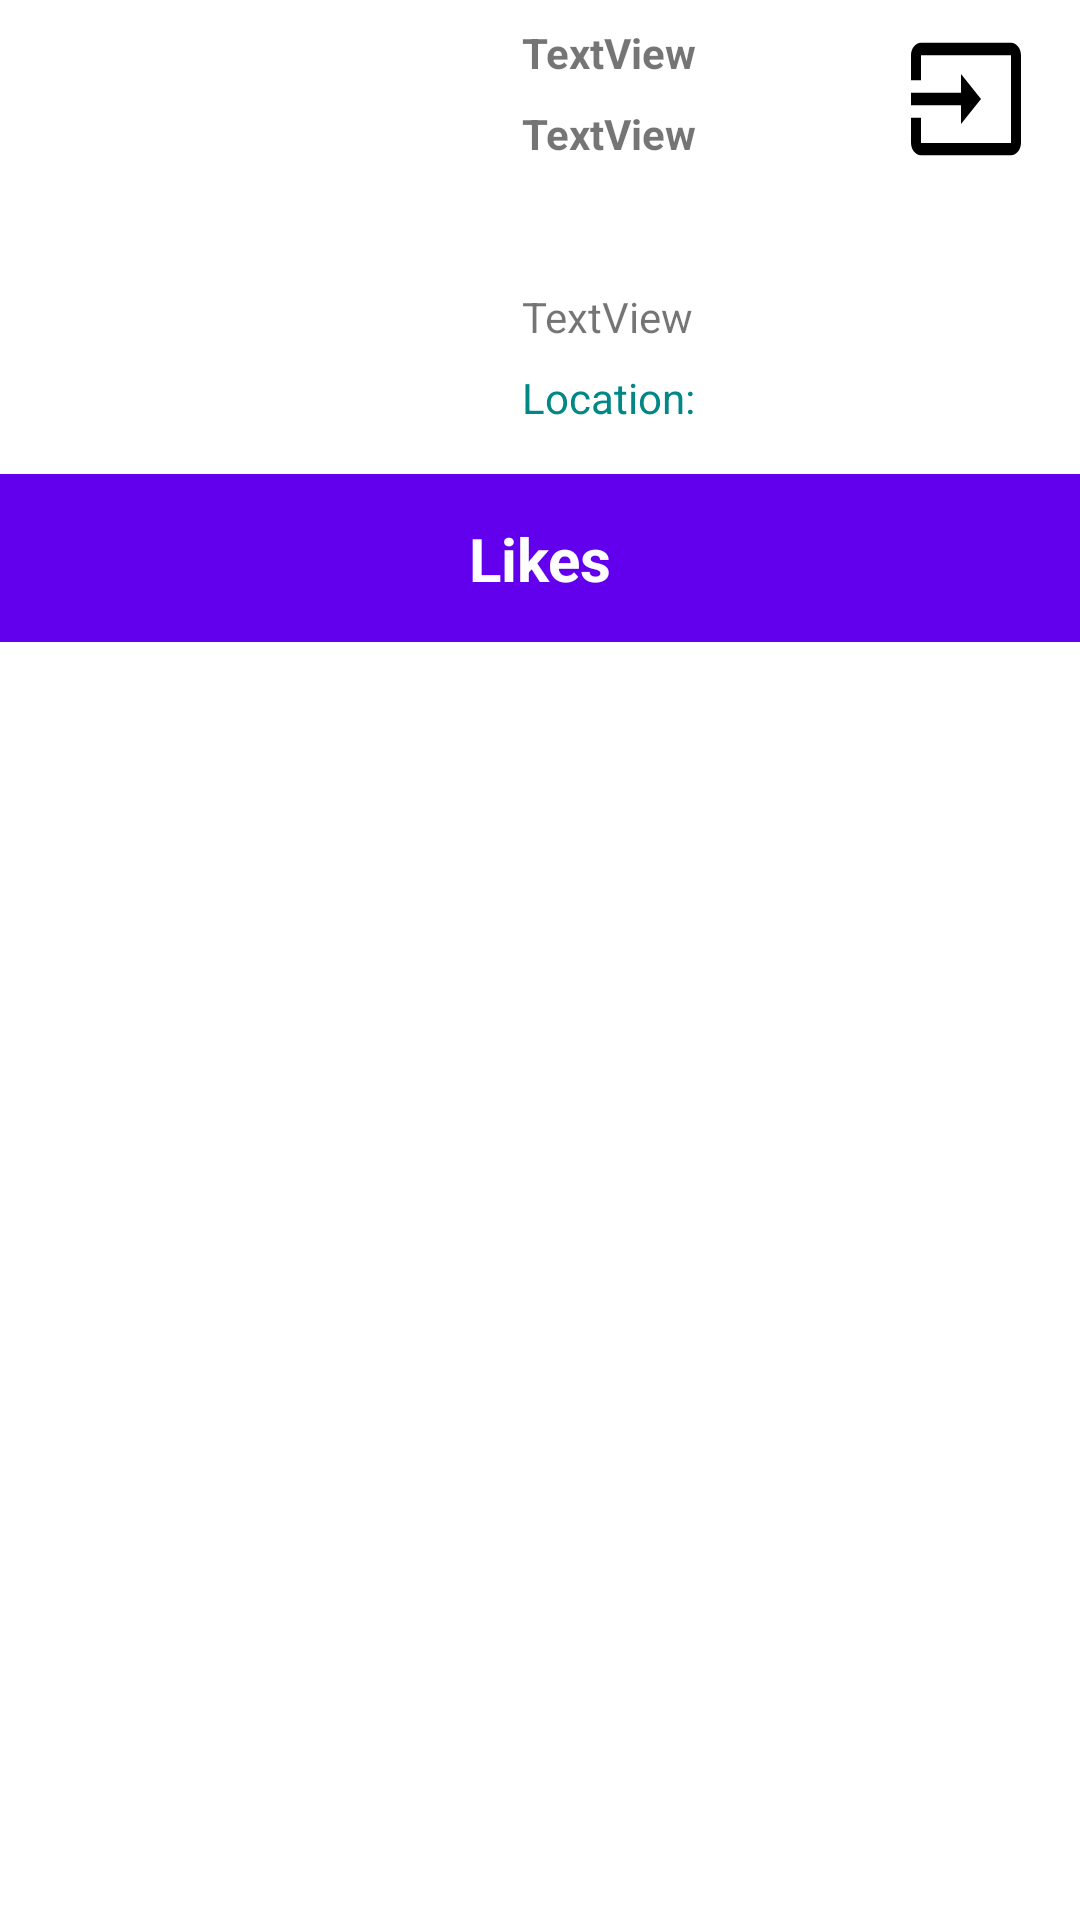

Named icons in this screenshot (1080×1920) and their bounding boxes, bbox=(x1, y1, x2, y2):
input: bbox=(911, 42, 1021, 156)
